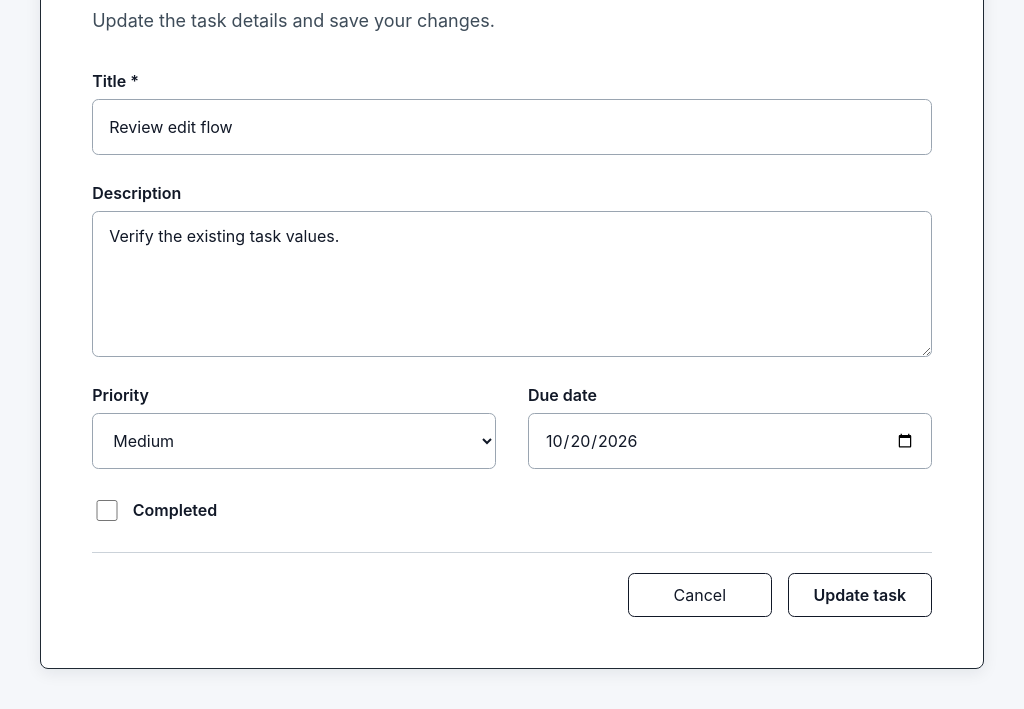
Test: TaskEditPage › renders normalized Laravel validation errors
The image size is (1024, 709).
(page scrolled)
Expected: the field labelled "Title *" is shown, [92,99,932,155]
Click the button "Update task": (860, 595) [788,573,932,617]
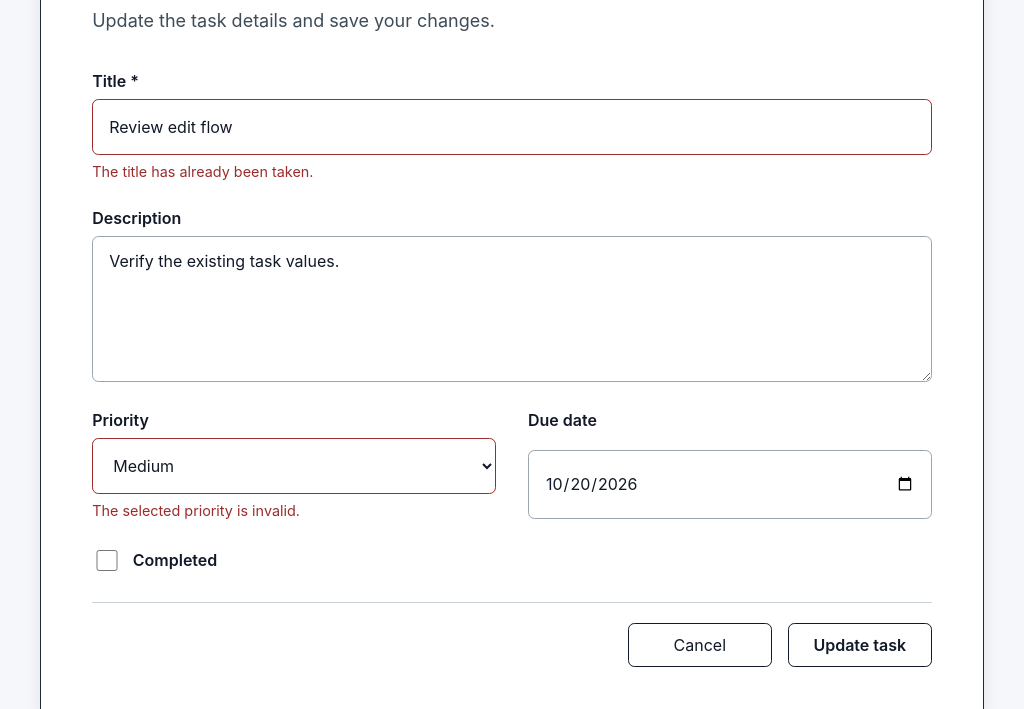
Expected: the text "The title has already been taken." is shown, [92,163,314,180]
Expected: the text "The selected priority is invalid." is shown, [92,502,300,519]
